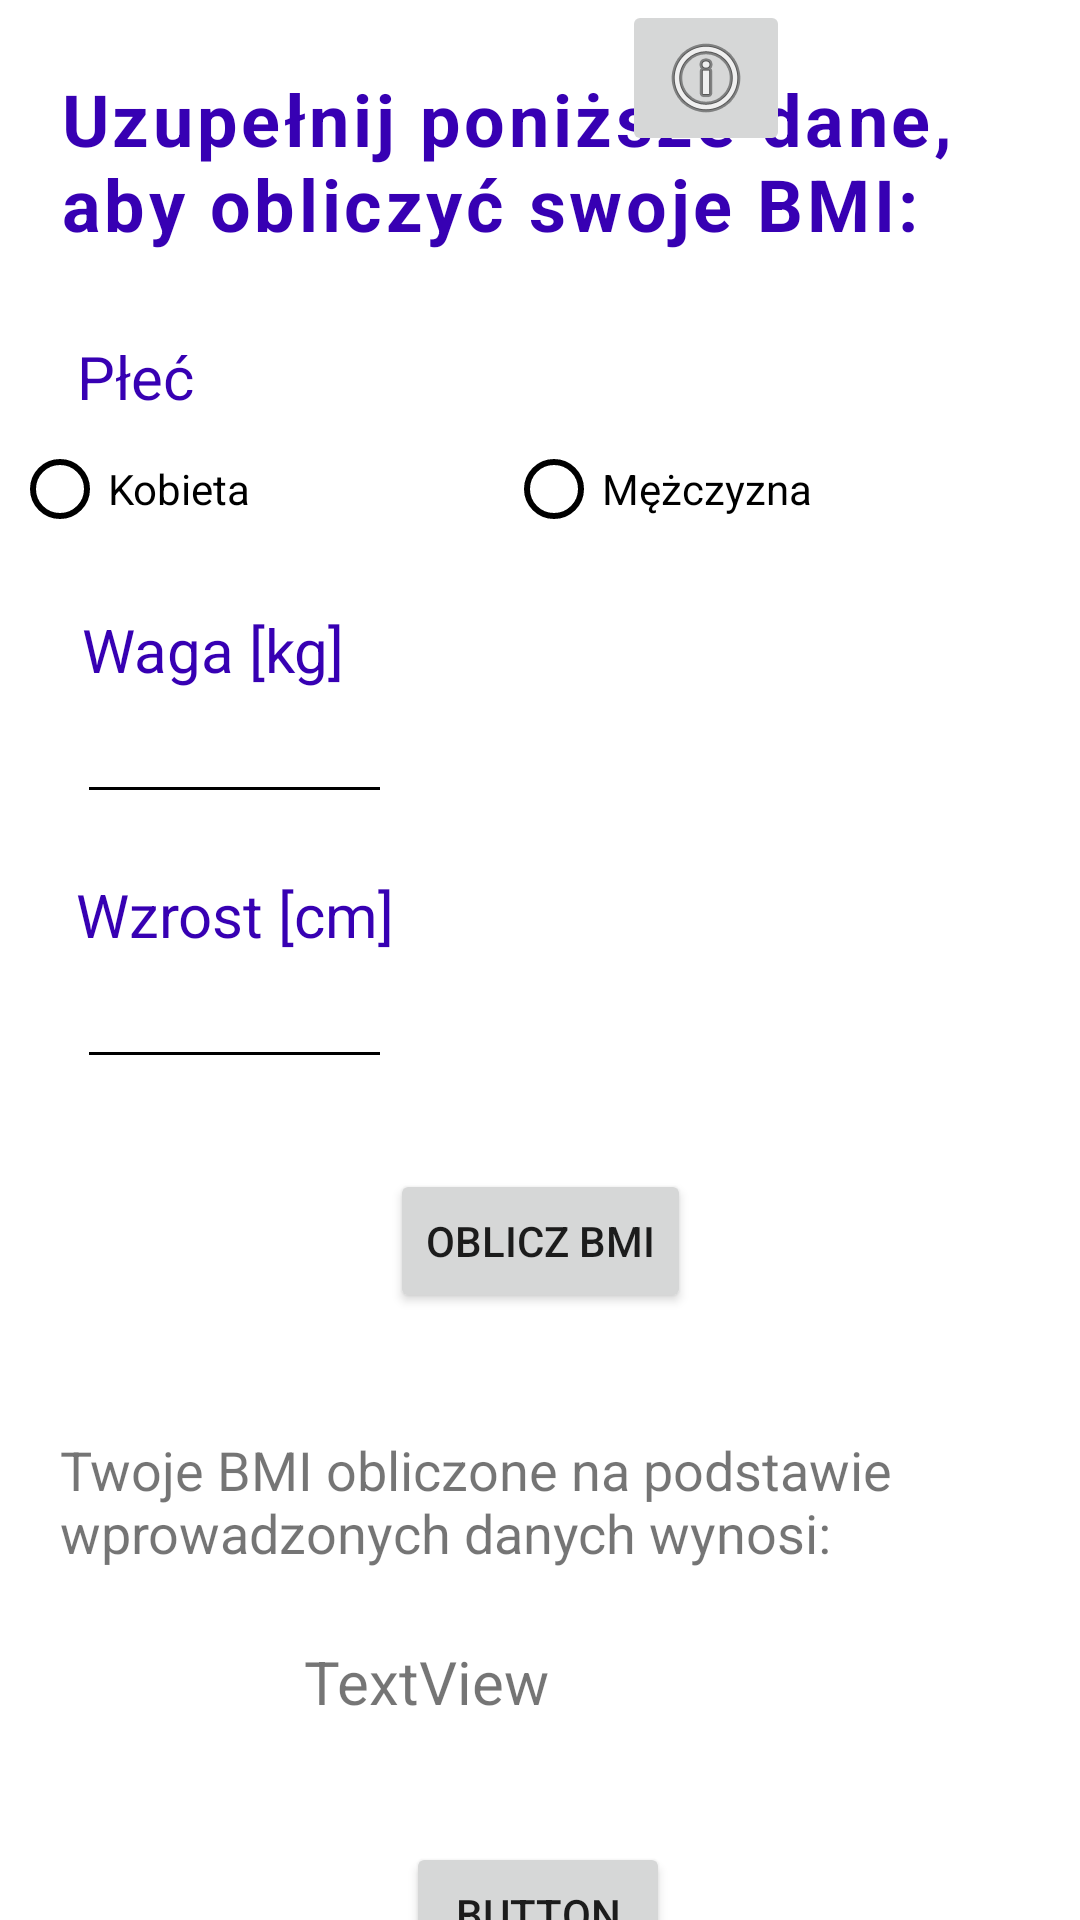

Icon click points for this 1080w x 1920h phone screenshot, format (x,y):
info details: (706,83)
